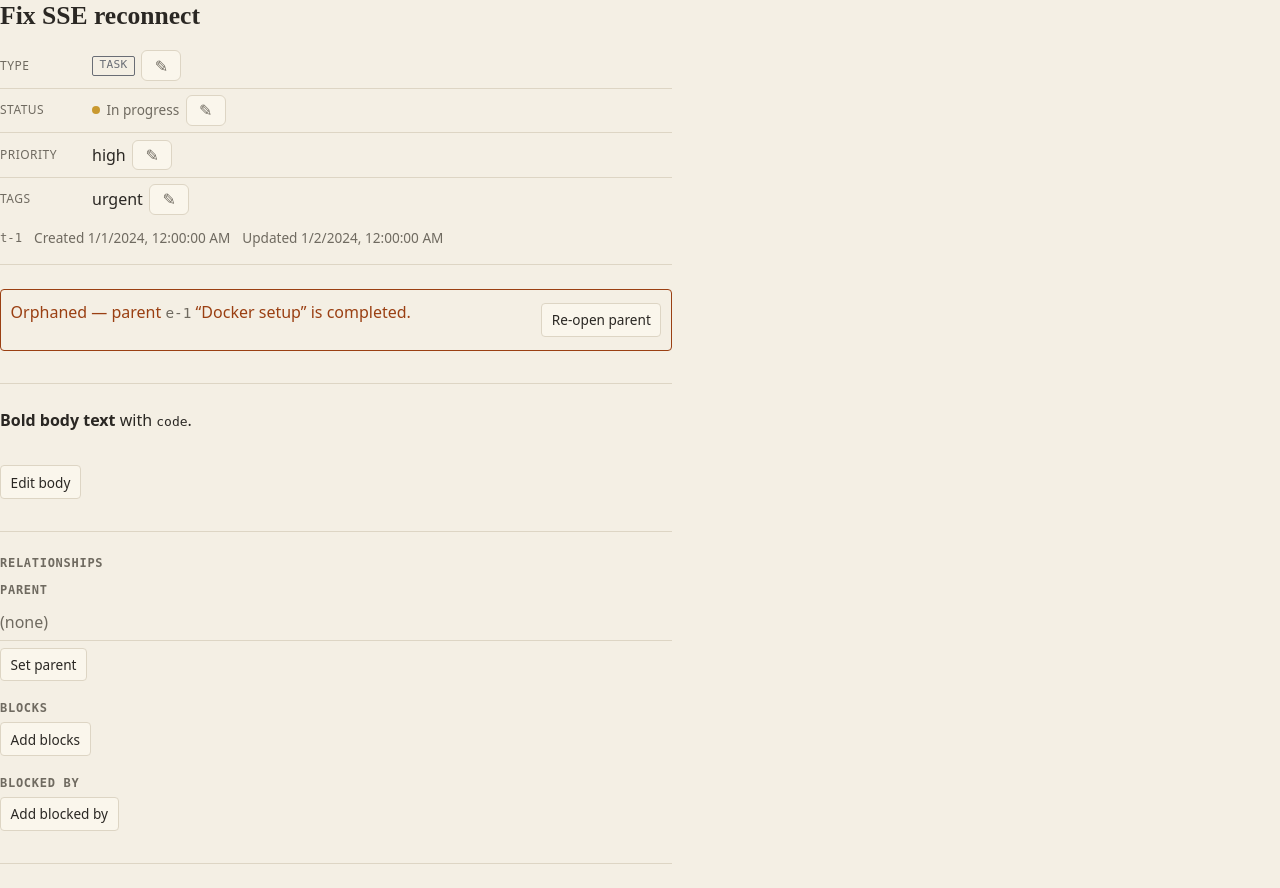
Test: orphan warning › closes the reopen dialog without reopening when cancelled
Click the button "Re-open parent".
click(601, 320)  # box [541,303,661,337]
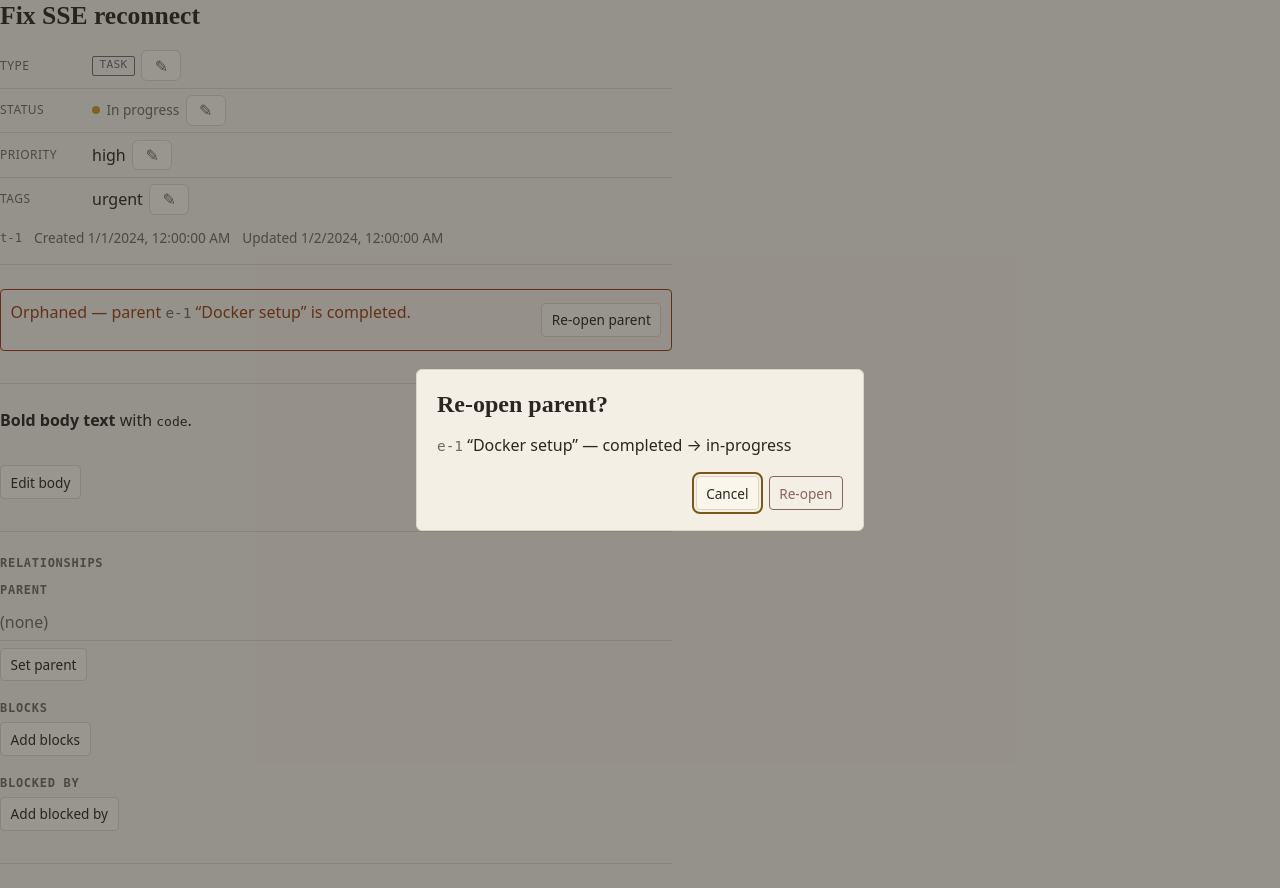
Click the button "Cancel".
click(727, 493)  # box [696,476,759,510]
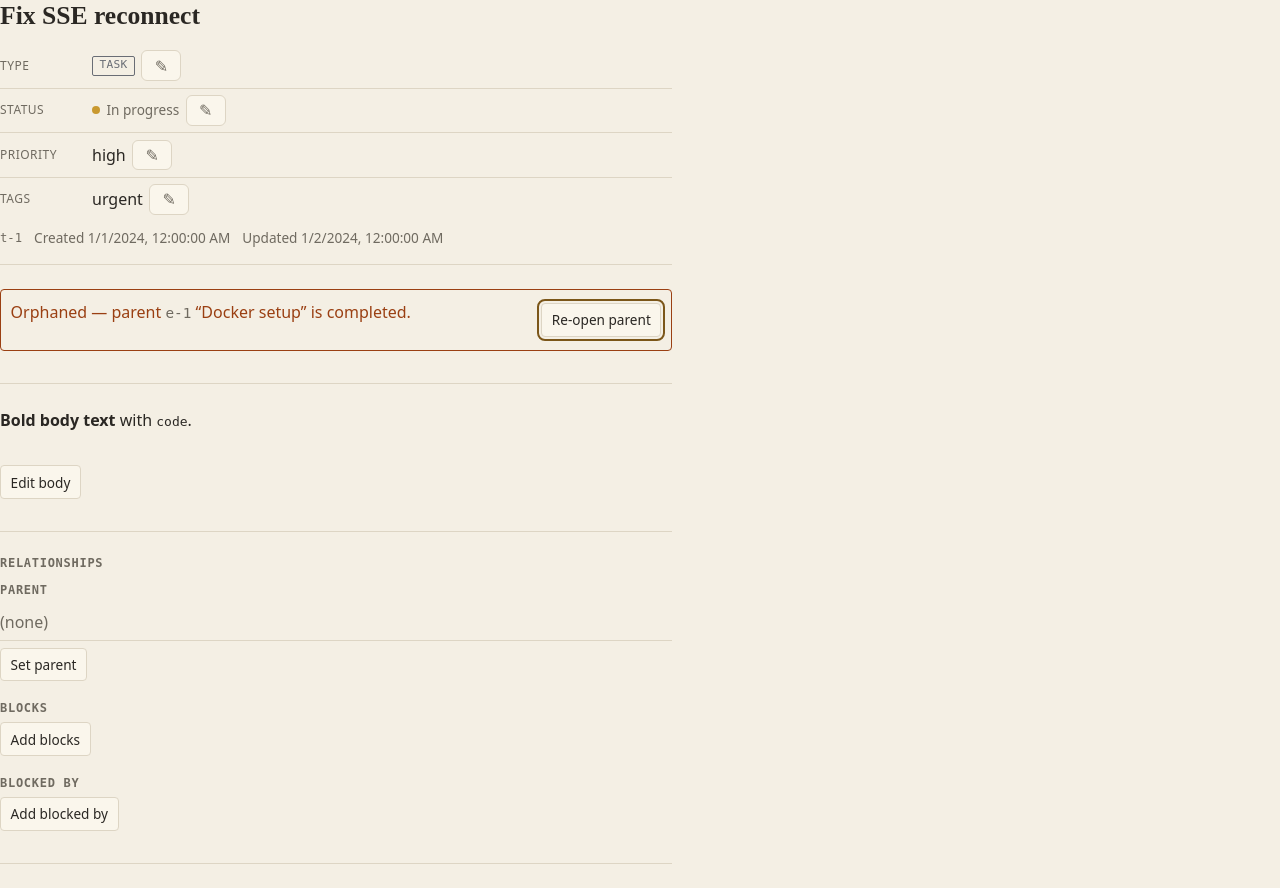
Expected: the button "Re-open parent" is shown, [541,303,661,337]
Expected: the dialog is gone
